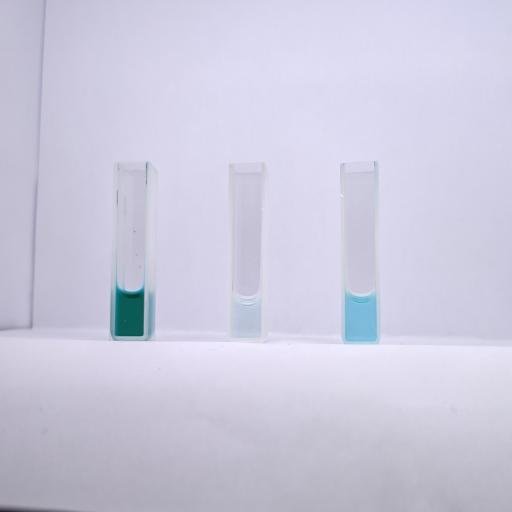cuvette: (108, 159, 153, 341), (339, 160, 382, 344), (227, 161, 268, 343)
liquid: (345, 291, 377, 341), (116, 290, 144, 336), (232, 295, 260, 337)
